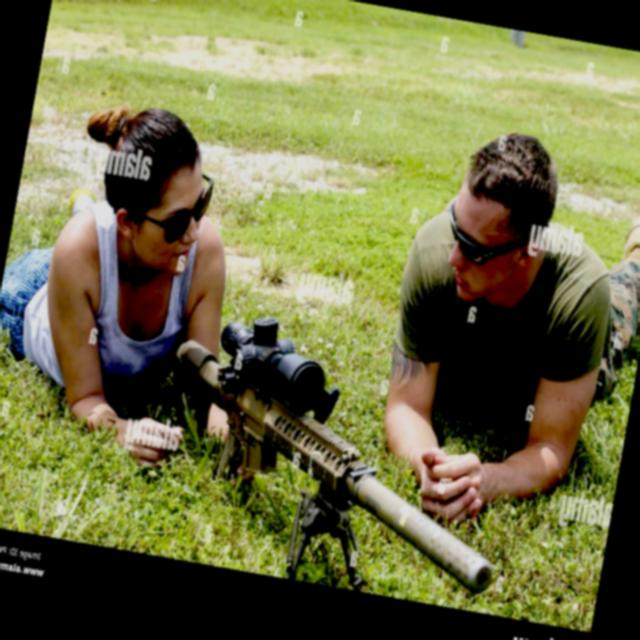rifle: (138, 296, 536, 607)
